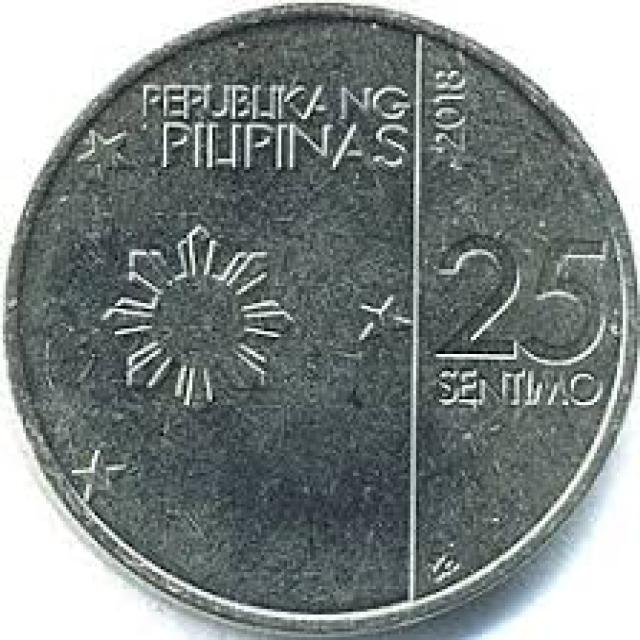25 cents: (6, 2, 634, 640)
